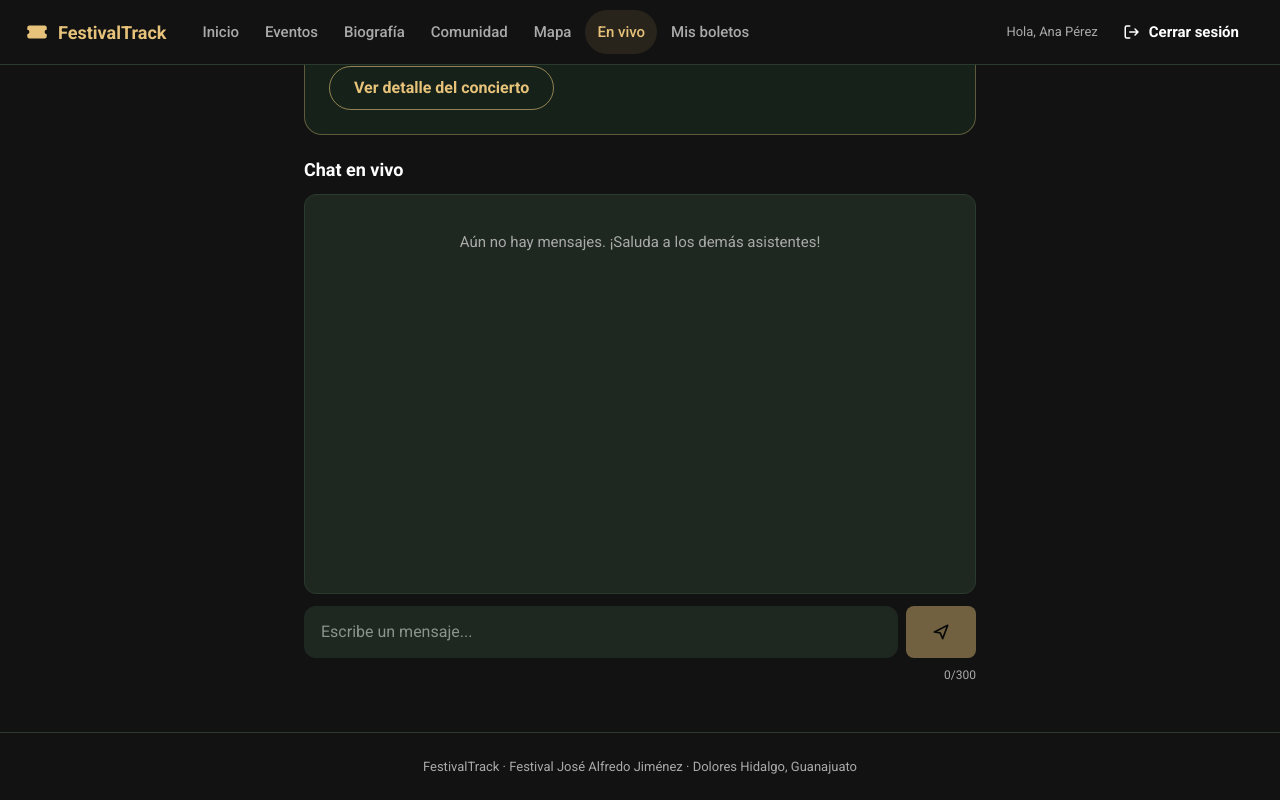
En vivo (/en-vivo) › mientras envía deshabilita el botón y no manda dos veces
This screenshot has width=1280, height=800.
(page scrolled)
Type "hola" into the field at {"x": 601, "y": 632}, box [304, 606, 898, 658]
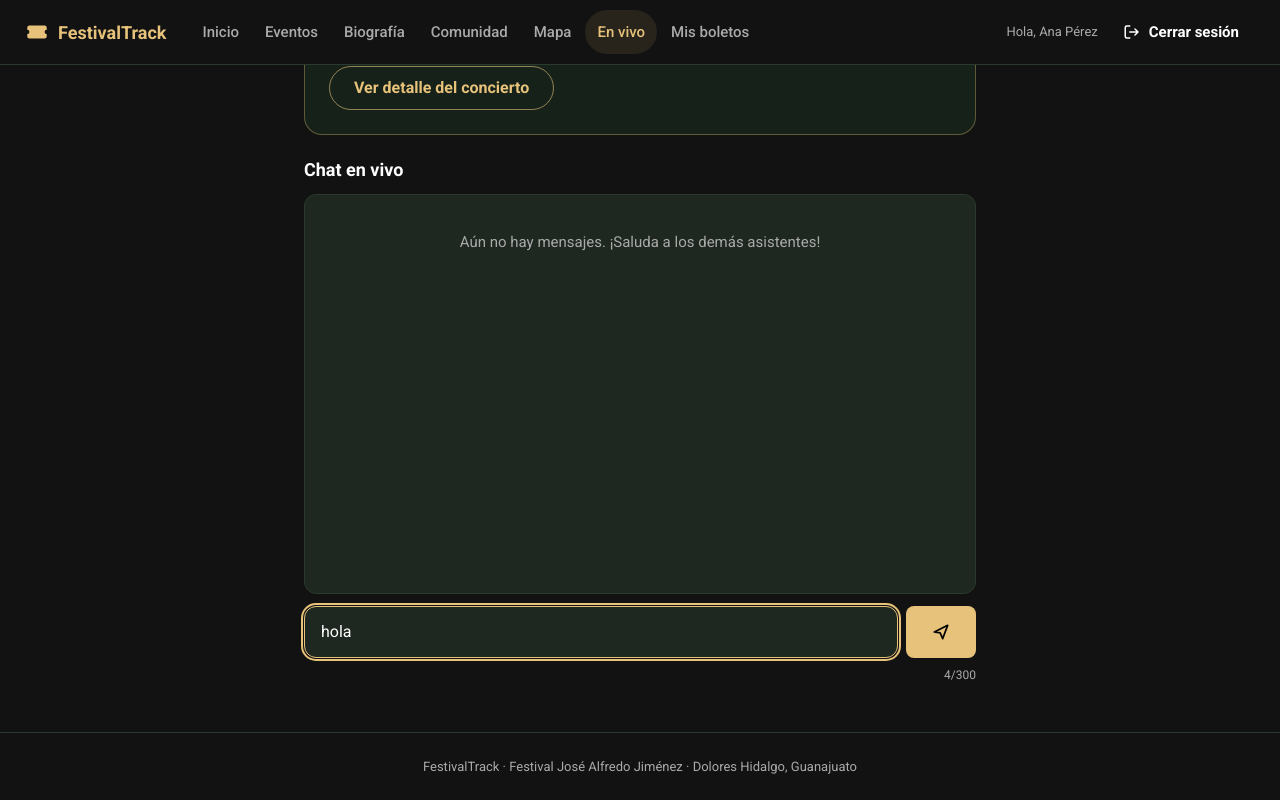
Click the button named "Enviar mensaje" at {"x": 941, "y": 632}, box [906, 606, 976, 658]
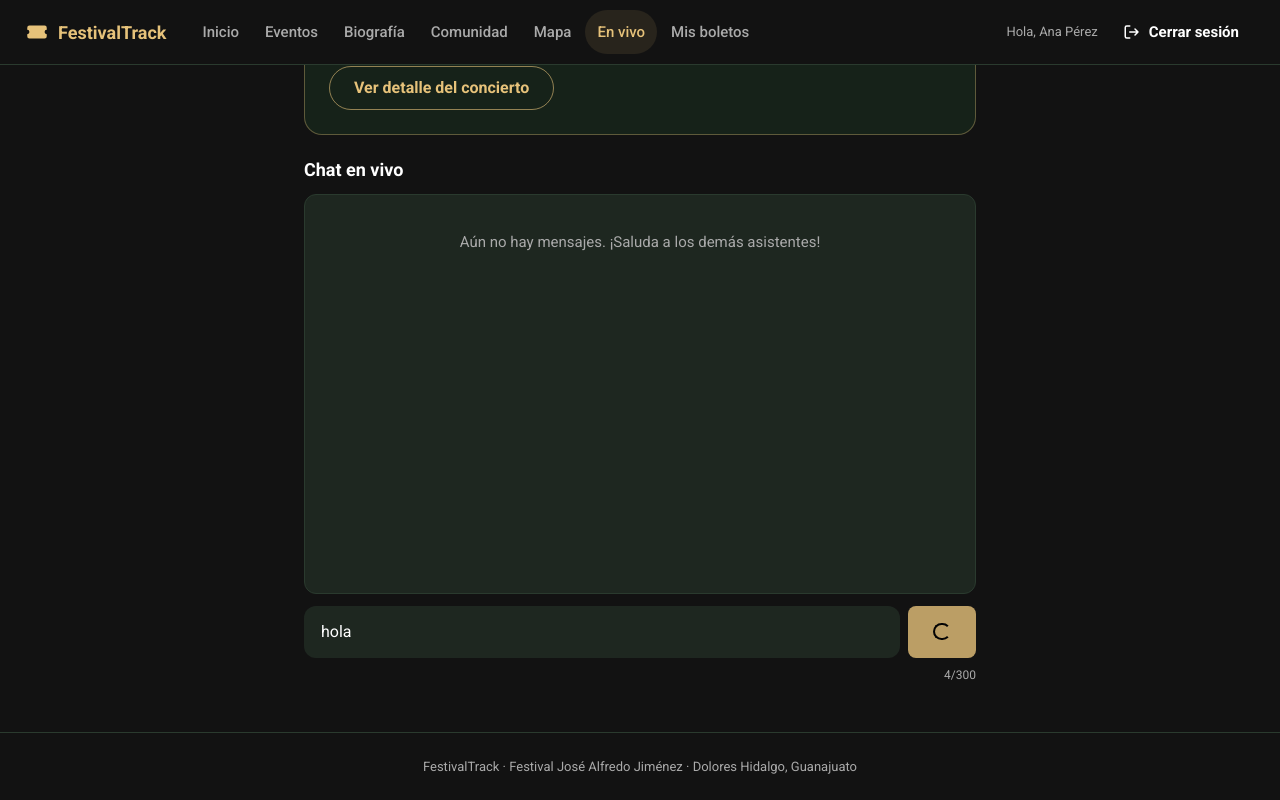
Expected: the button named "Enviar mensaje" is disabled
Click the button named "Enviar mensaje" at {"x": 942, "y": 632}, box [908, 606, 976, 658]
(page scrolled)
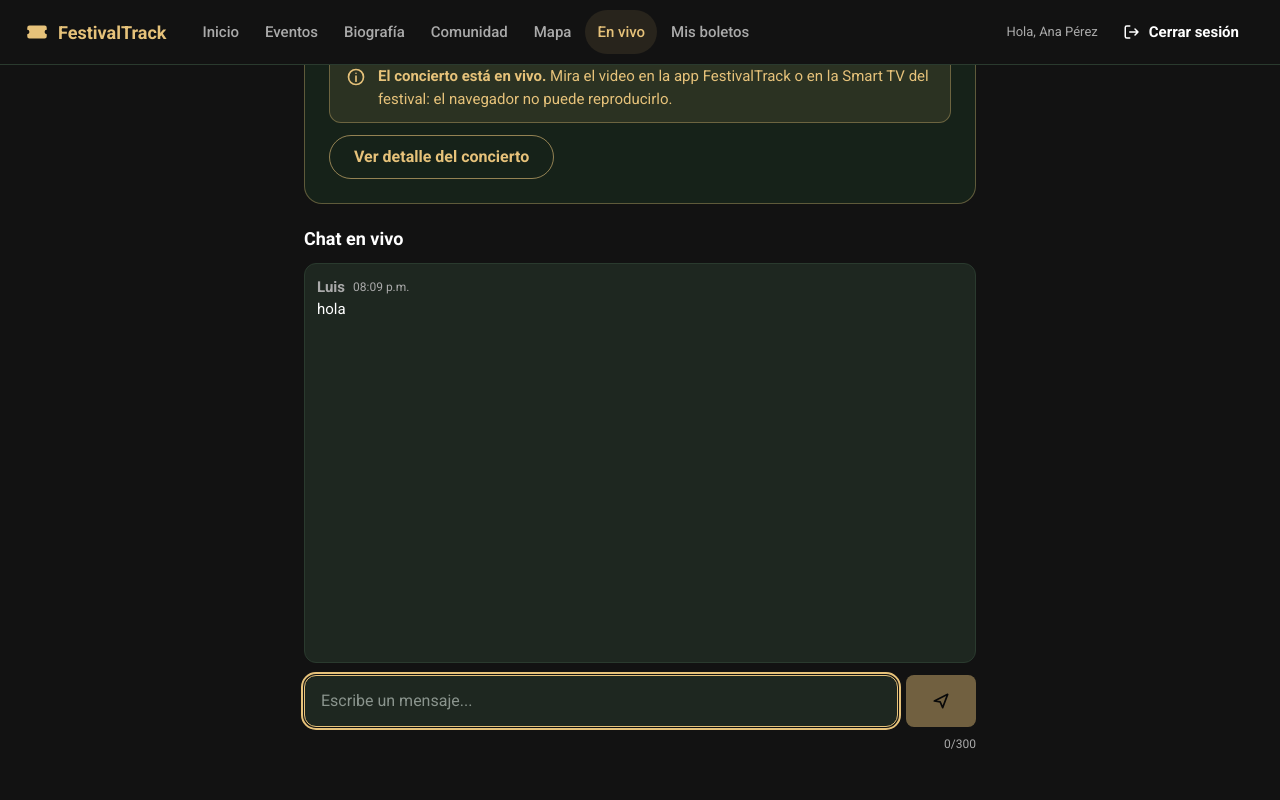
Expected: the text "hola" is shown, [317, 300, 346, 318]
